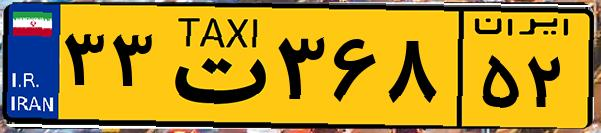2: (525, 38, 570, 115)
3: (270, 28, 330, 110), (57, 26, 110, 100), (110, 28, 158, 98)
5: (475, 38, 525, 113)
6: (330, 28, 385, 110)
8: (385, 28, 445, 110)
ت: (158, 12, 270, 120)
